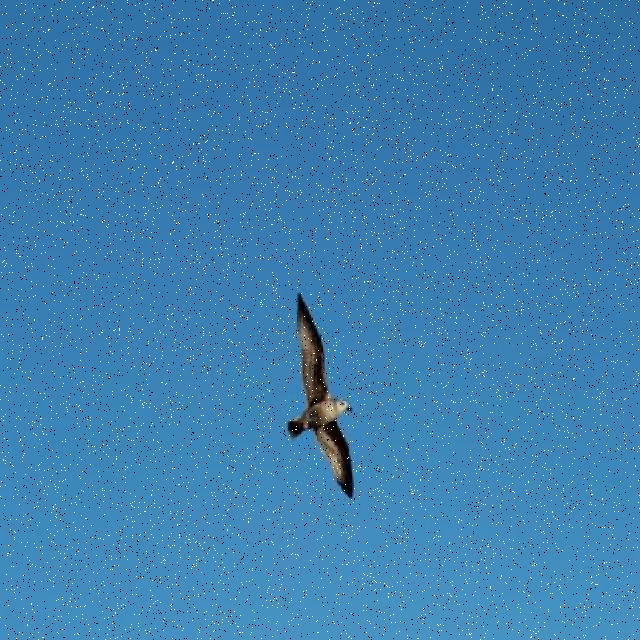bird: (285, 291, 358, 500)
